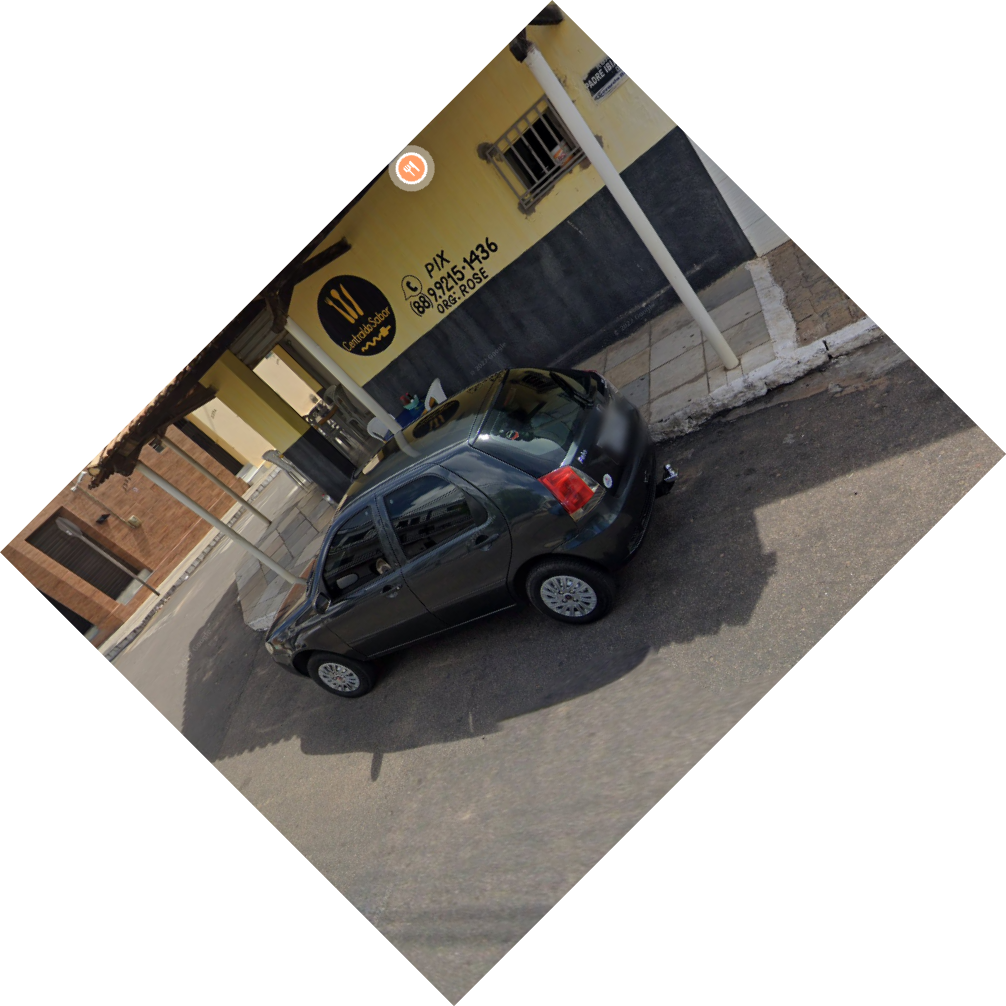car: (262, 360, 670, 727)
